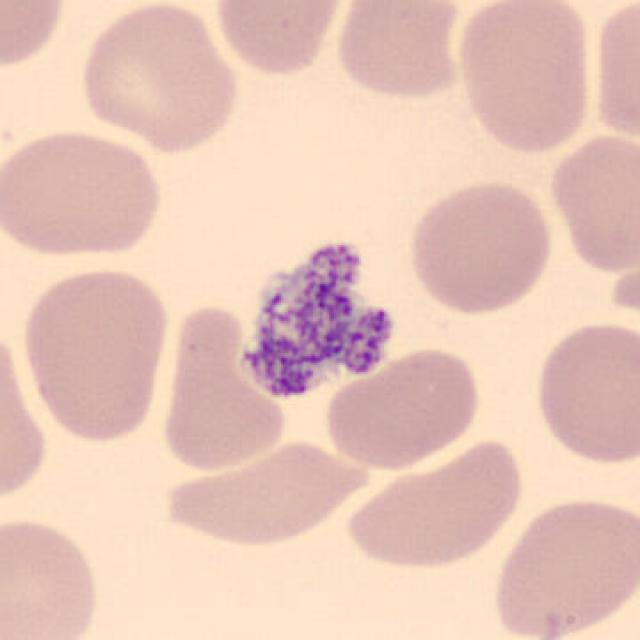Platelets: (224, 226, 407, 416)
RBC: (18, 261, 174, 446), (340, 434, 528, 574), (75, 2, 244, 155), (157, 436, 375, 550), (154, 300, 292, 476), (452, 0, 599, 157), (0, 123, 167, 261), (487, 490, 637, 640), (404, 175, 556, 319), (320, 342, 485, 473), (530, 316, 638, 467), (330, 0, 469, 102), (544, 129, 638, 277), (0, 511, 107, 640), (209, 0, 350, 79), (0, 317, 52, 515), (586, 0, 640, 150), (0, 0, 69, 74)
